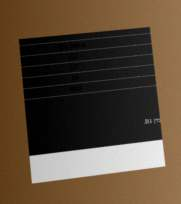carbs: (69, 84, 83, 94)
energy: (66, 52, 79, 61)
fat: (70, 73, 79, 82)
protein: (68, 62, 79, 72)
